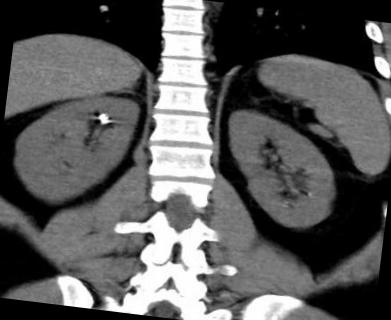Tas_Var: (96, 112, 110, 120), (100, 119, 112, 128), (304, 191, 314, 197)
